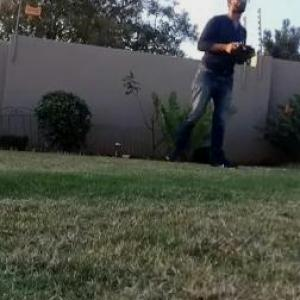follow: (161, 0, 258, 176)
